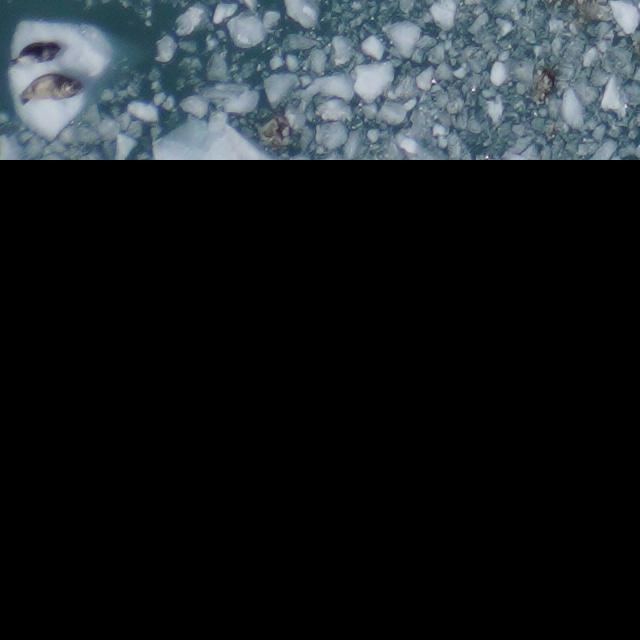seal: (20, 72, 83, 103), (12, 40, 62, 63)
